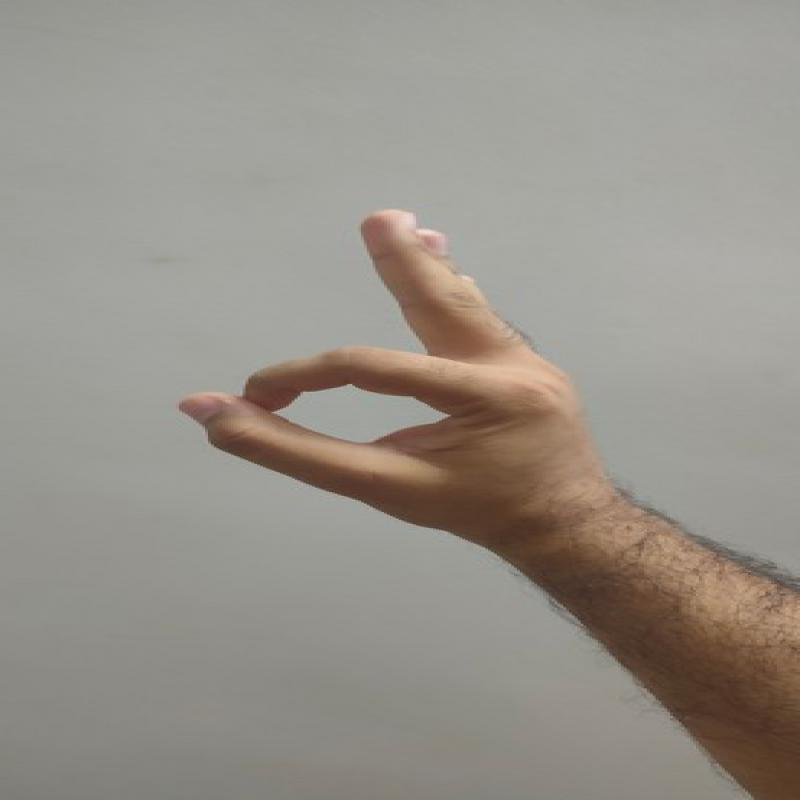Mudraakhyam: (163, 188, 615, 545)
